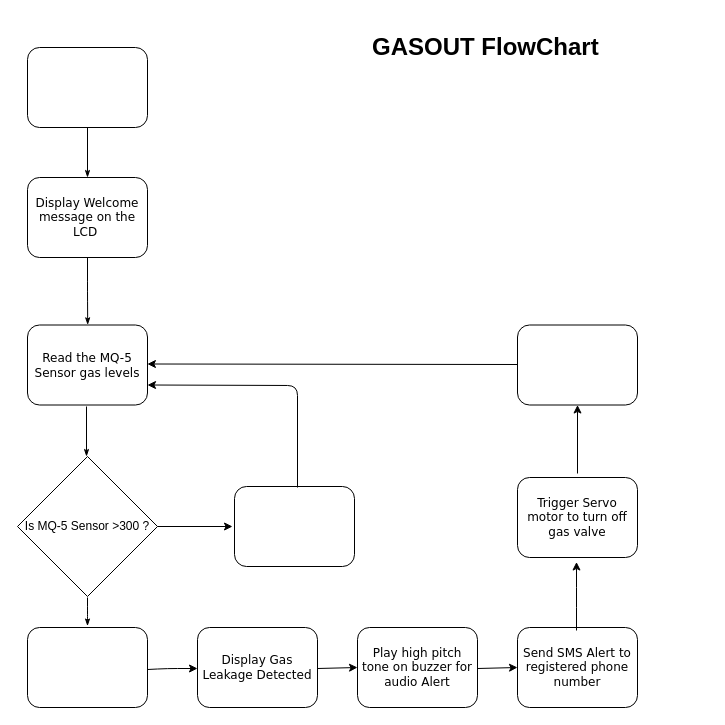
Some shapes in this 725 by 725 pixel diagram are drawn without their labels. Here are the shapes that lost their labels. From the top down, the centre of each, then its label:
At point (87, 87): "Initial Pin Mapping".
At point (577, 364): "Delay of 3 Seconds".
At point (294, 526): "Delay of 1 Second".
At point (87, 667): "Display warning message on LCD".
